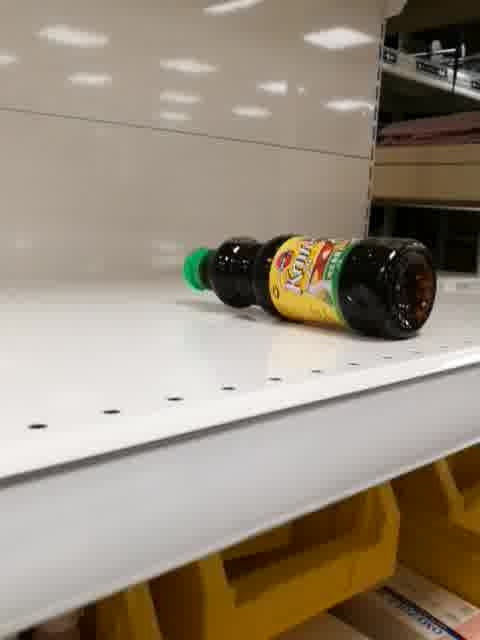cookingoil: (179, 230, 439, 343)
